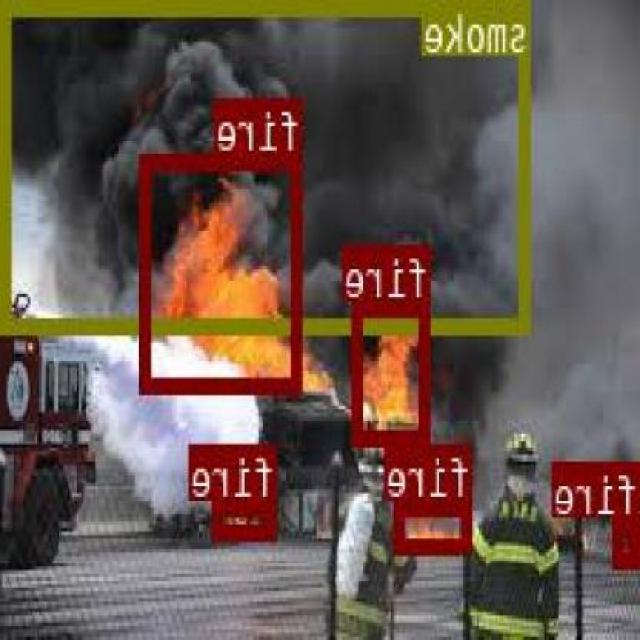Fire: (144, 150, 306, 392), (354, 300, 432, 442), (398, 498, 474, 550), (216, 498, 278, 538), (614, 516, 640, 564)
Smoke: (4, 0, 533, 329)
